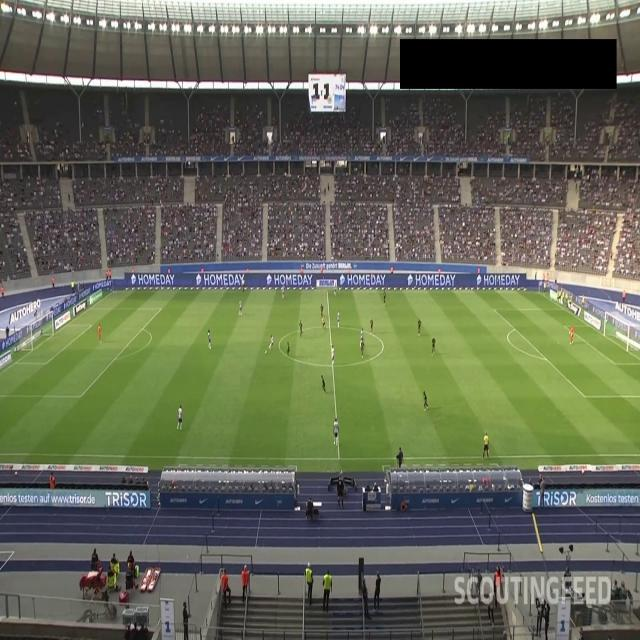ball: (264, 348, 268, 356)
player: (176, 402, 183, 432), (567, 320, 576, 343), (422, 390, 430, 413), (333, 418, 339, 448), (97, 322, 103, 345), (321, 375, 327, 394), (207, 328, 212, 350), (268, 334, 274, 352), (238, 298, 243, 319), (417, 318, 422, 338), (299, 320, 304, 340), (331, 344, 335, 368), (280, 284, 286, 300), (360, 327, 364, 349), (336, 308, 340, 330), (432, 337, 436, 358), (360, 340, 364, 359), (286, 340, 290, 359), (383, 290, 387, 308), (370, 318, 374, 334), (320, 304, 324, 318)
